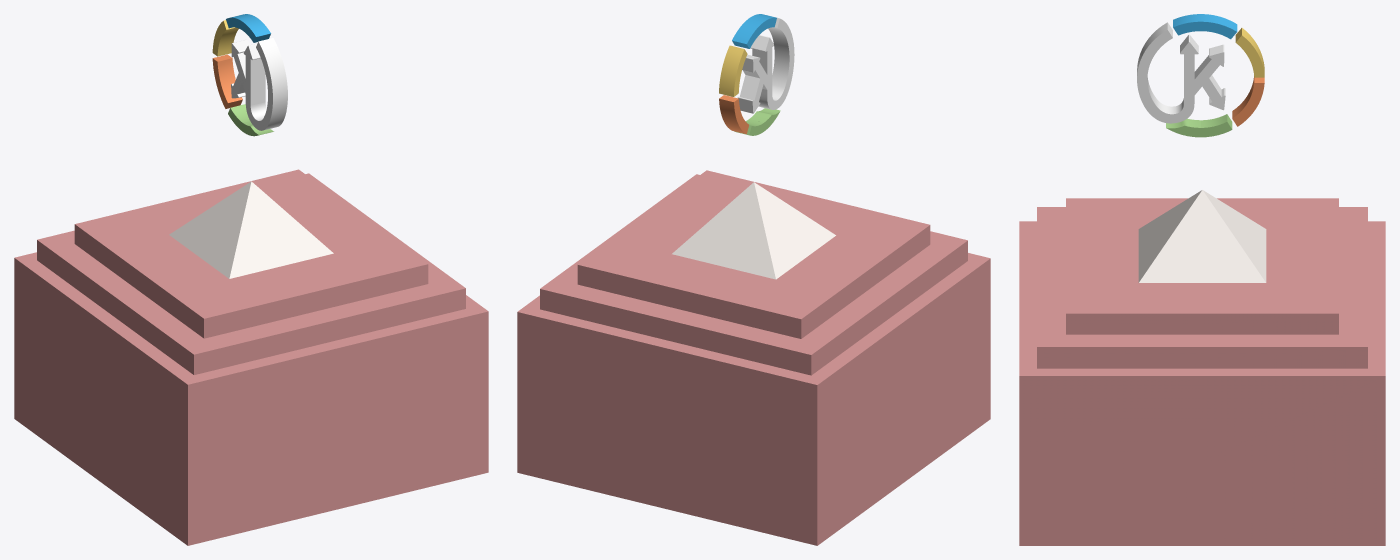
The model's file is totem1.glb.
3 views of the same model, side by side, from view 1: azimuth 30°, elevation 25°; view 2: azimuth 150°, elevation 25°; view 3: azimuth 270°, elevation 25° (orthographic). The views are drawn at different scales.
Visible parts, largest first — view 1: Cube.2, Cube, Cube.1, Pyramid, Spline (×5); view 2: Cube.2, Cube, Cube.1, Pyramid, Spline (×5); view 3: Cube.2, Cube, Cube.1, Pyramid, Spline (×5).
Boxes of the visible parts, left/top/right/bottom form: Cube.2: left=14, top=252, right=488, bottom=545; Cube: left=74, top=169, right=428, bottom=338; Cube.1: left=37, top=173, right=465, bottom=374; Pyramid: left=169, top=181, right=333, bottom=278; Spline (×5): left=212, top=14, right=287, bottom=136; Cube.2: left=517, top=253, right=990, bottom=545; Cube: left=577, top=170, right=930, bottom=338; Cube.1: left=540, top=174, right=967, bottom=375; Pyramid: left=672, top=182, right=835, bottom=279; Spline (×5): left=719, top=14, right=794, bottom=135; Cube.2: left=1019, top=221, right=1385, bottom=545; Cube: left=1066, top=198, right=1338, bottom=334; Cube.1: left=1037, top=207, right=1367, bottom=368; Pyramid: left=1138, top=190, right=1266, bottom=282; Spline (×5): left=1137, top=14, right=1264, bottom=137.
Size of the model in its own units: 44.98 by 60.96 by 44.98.
